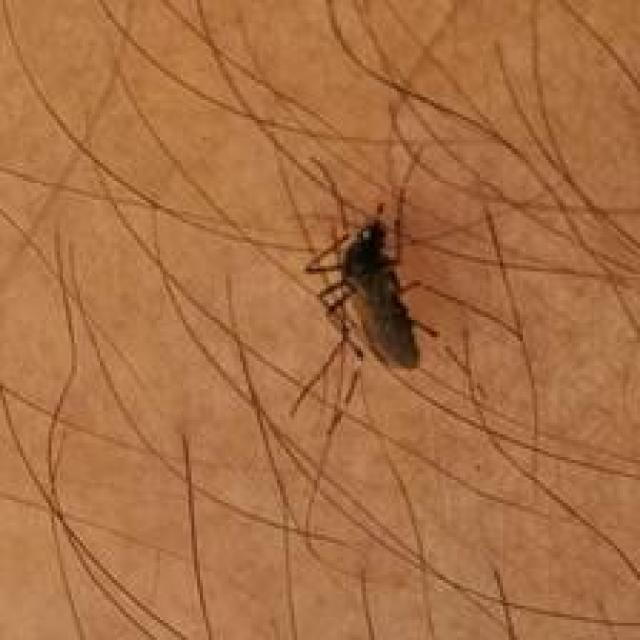Aedes albopictus: (302, 189, 442, 374)
